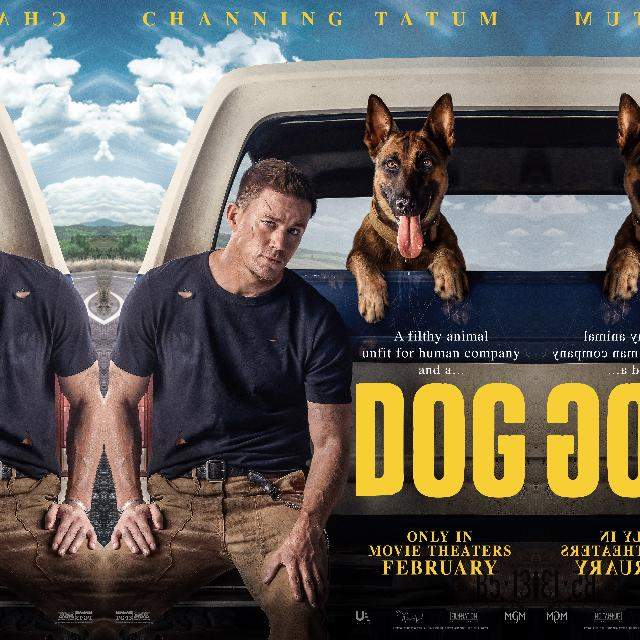person: (126, 144, 326, 614), (0, 144, 80, 614)
